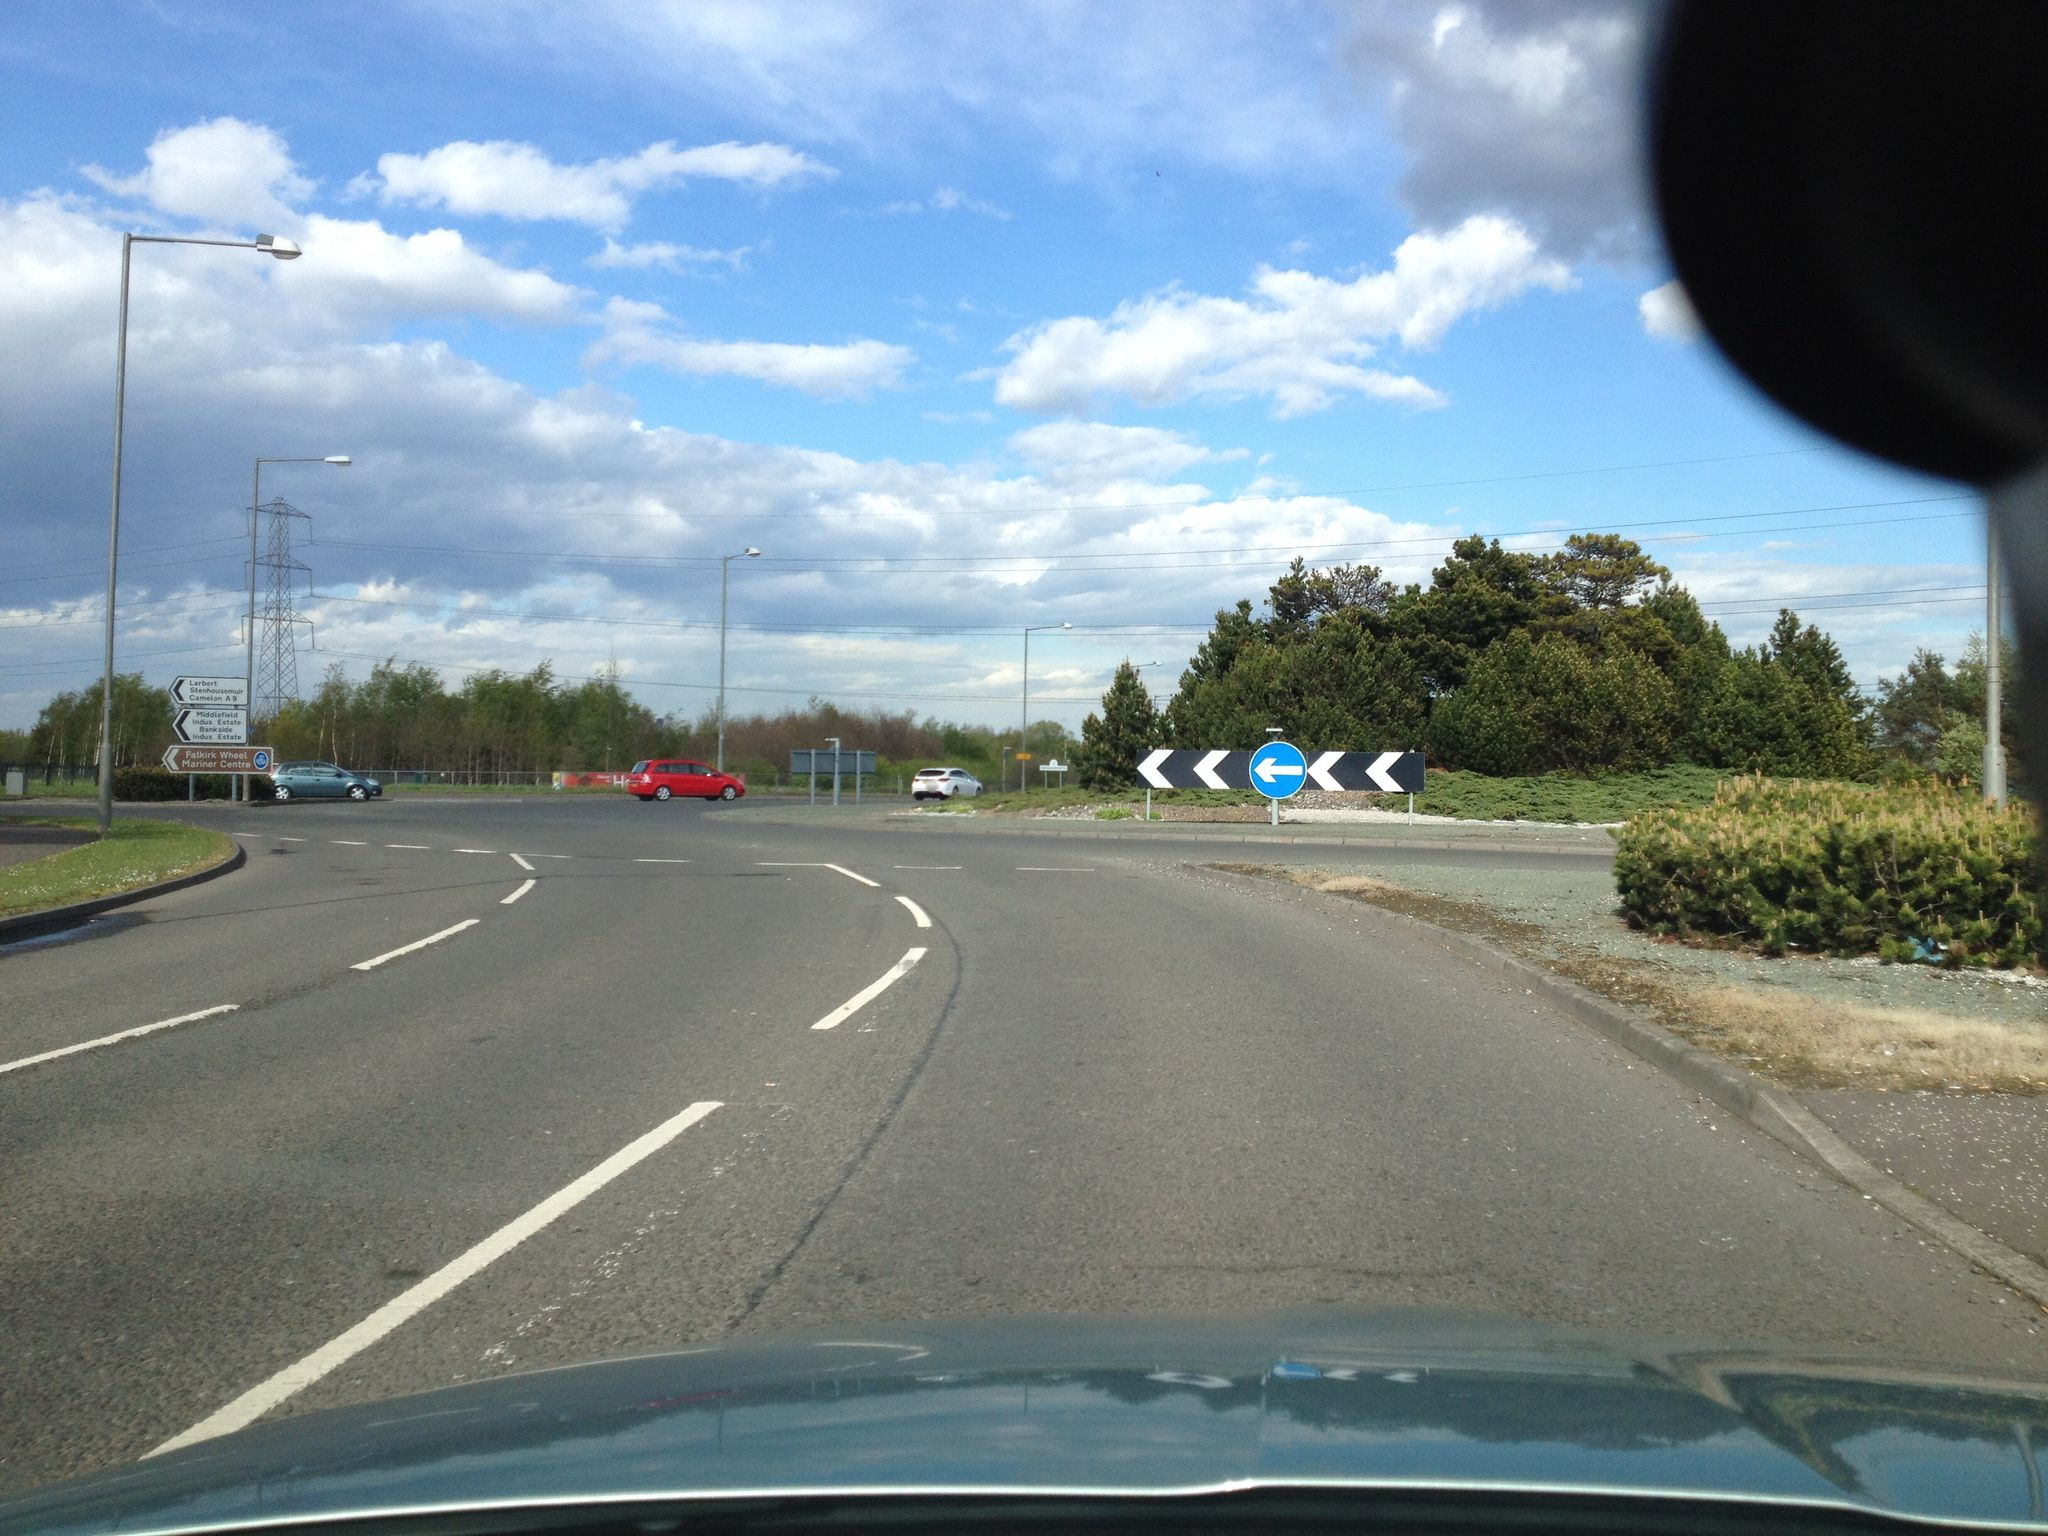car: (626, 758, 745, 800), (269, 760, 384, 800), (910, 766, 982, 800)
